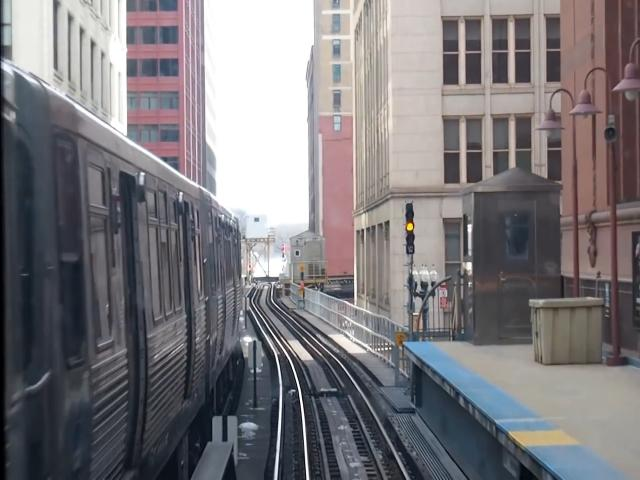signal light: (406, 202, 417, 258)
